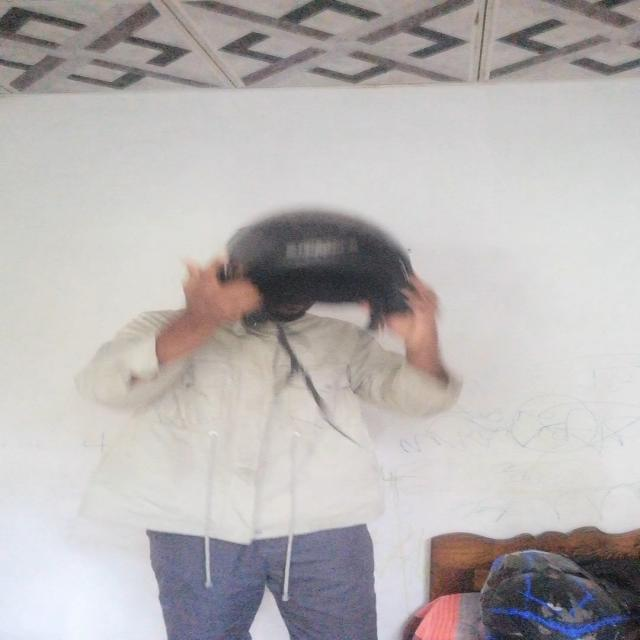Helmet_Wearer: (188, 223, 406, 334)
Jacket_Wearer: (86, 294, 465, 542)
Person: (74, 207, 456, 640)
